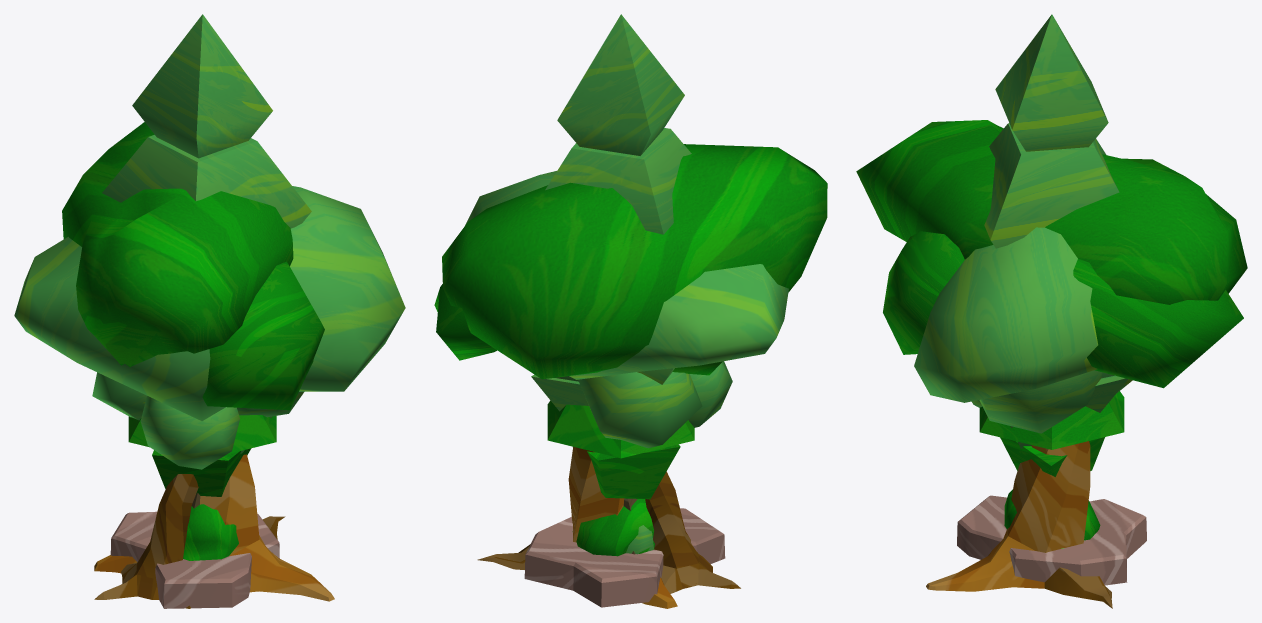
Rendered from Natural_Props.fbx.
3 renders of one model, left to right at view 1: azimuth 30°, elevation 25°; view 2: azimuth 150°, elevation 25°; view 3: azimuth 270°, elevation 25°, orthographic. The views are drawn at different scales.
Visible parts, largest first — view 1: Tree_01, Tree_02, Tree_03, Tree_05, Big_Rock_03, Bush_01, Tree_04, Tree_06; view 2: Tree_01, Tree_03, Tree_02, Tree_05, Big_Rock_03, Tree_06, Tree_04, Bush_01; view 3: Tree_01, Tree_02, Tree_03, Big_Rock_03, Tree_05, Tree_06, Tree_04, Bush_01.
Part boxes in pixels (x1,y1,x2,y2): Tree_01: (62,122,334,601); Tree_02: (14,186,405,608); Tree_03: (102,14,311,453); Tree_05: (92,372,304,599); Big_Rock_03: (110,511,279,608); Bush_01: (183,504,238,560); Tree_04: (152,448,251,496); Tree_06: (128,415,276,453); Tree_01: (434,144,827,608); Tree_03: (531,14,691,411); Tree_02: (465,171,788,583); Tree_05: (578,361,740,593); Big_Rock_03: (524,508,725,607); Tree_06: (547,400,694,458); Tree_04: (587,444,680,499); Bush_01: (576,499,654,556); Tree_01: (856,120,1247,608); Tree_02: (914,227,1098,402); Tree_03: (984,14,1127,448); Big_Rock_03: (957,495,1146,585); Tree_05: (971,370,1132,433); Tree_06: (979,391,1124,449); Tree_04: (1000,437,1104,476); Bush_01: (1004,489,1100,540).
Size of the model in its own units: 7.37 by 11.6 by 7.43.
